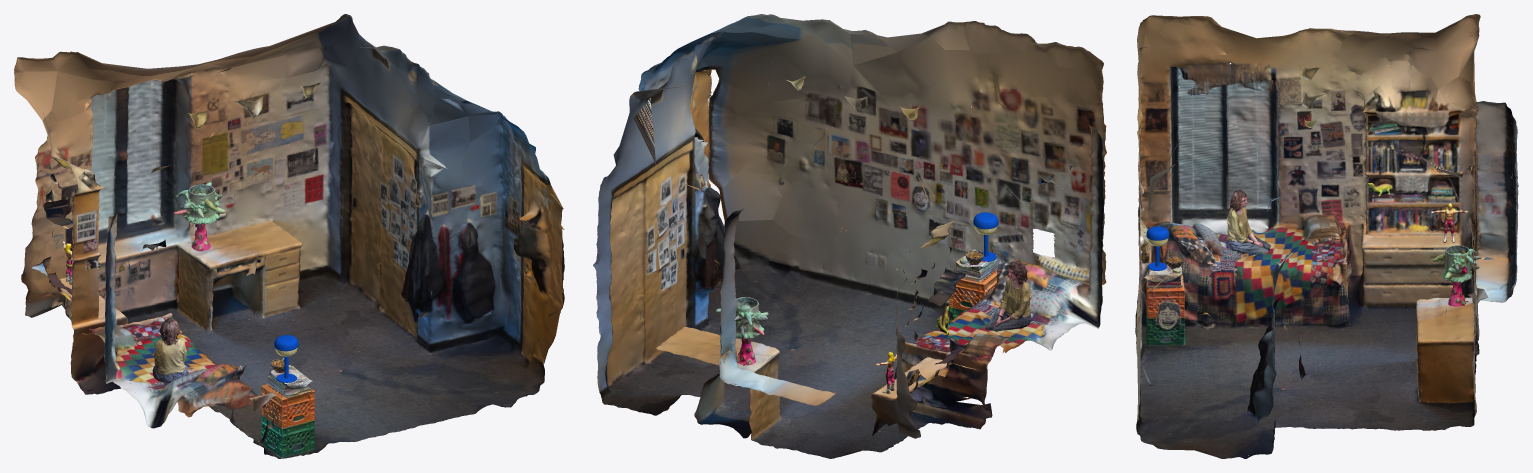
Rendered from nowallposters.glb.
The picture shows the model from 3 angles, left to right: view 1: azimuth 30°, elevation 25°; view 2: azimuth 150°, elevation 25°; view 3: azimuth 270°, elevation 25°; orthographic projection. The views are drawn at different scales.
Visible parts, largest first — view 1: room, desk, bed, door, right side window, closet door, crate.001, left side window, dresser, pinklamp, mesh.001, hotstuff (+9 smaller); view 2: room, bed, closet door, desk, dresser, mesh.001, crate.001, pinklamp, door, charlotte, pinotek, pose (+10 smaller); view 3: room, bed, windowz, dresser, desk, crate.001, mesh.001, pinklamp, bottombook, lacetop, rightbook1, leftbook (+20 smaller).
Boxes of the visible parts, left/top/right/bottom form: room: left=14, top=14, right=564, bottom=458; desk: left=176, top=220, right=378, bottom=330; bed: left=83, top=313, right=278, bottom=458; door: left=514, top=164, right=564, bottom=364; right side window: left=121, top=79, right=168, bottom=226; closet door: left=379, top=129, right=417, bottom=336; crate.001: left=261, top=365, right=315, bottom=457; left side window: left=91, top=88, right=125, bottom=231; dresser: left=25, top=277, right=127, bottom=388; pinklamp: left=173, top=182, right=225, bottom=251; mesh.001: left=152, top=318, right=188, bottom=382; hotstuff: left=241, top=114, right=303, bottom=155; room: left=593, top=14, right=1106, bottom=458; bed: left=894, top=259, right=1089, bottom=423; closet door: left=643, top=150, right=690, bottom=362; desk: left=639, top=327, right=780, bottom=439; dresser: left=871, top=357, right=979, bottom=452; mesh.001: left=984, top=260, right=1031, bottom=331; crate.001: left=949, top=249, right=998, bottom=320; pinklamp: left=715, top=297, right=768, bottom=365; door: left=689, top=69, right=711, bottom=186; charlotte: left=804, top=91, right=843, bottom=129; pinotek: left=994, top=109, right=1021, bottom=153; pose: left=1041, top=103, right=1066, bottom=140; room: left=1135, top=14, right=1515, bottom=458; bed: left=1140, top=215, right=1354, bottom=330; windowz: left=1177, top=68, right=1271, bottom=209; dresser: left=1356, top=217, right=1463, bottom=309; desk: left=1416, top=297, right=1476, bottom=404; crate.001: left=1144, top=264, right=1185, bottom=346; mesh.001: left=1226, top=189, right=1270, bottom=254; pinklamp: left=1432, top=245, right=1481, bottom=306; bottombook: left=1356, top=207, right=1440, bottom=230; lacetop: left=1376, top=107, right=1449, bottom=127; rightbook1: left=1422, top=142, right=1459, bottom=172; leftbook: left=1368, top=141, right=1399, bottom=173.
Size of the model in its own units: 2.59 by 1.78 by 2.23.
12 materials, 10 textured.
